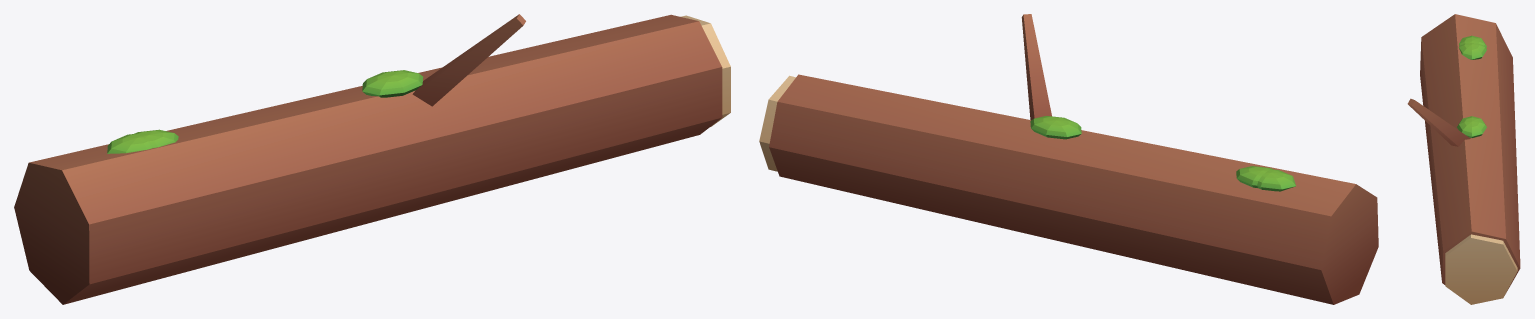
File: log_fallen.glb
The picture shows the model from 3 angles, left to right: view 1: azimuth 30°, elevation 25°; view 2: azimuth 150°, elevation 25°; view 3: azimuth 270°, elevation 25°; orthographic projection. The views are drawn at different scales.
Parts seen in each view (by area): view 1: log_fallen; view 2: log_fallen; view 3: log_fallen.
Boxes of the visible parts, x1,y1,x2,y2 form: log_fallen: (14, 14, 730, 304); log_fallen: (759, 14, 1378, 304); log_fallen: (1407, 14, 1520, 304).
Size of the model in its own units: 3.27 by 0.9759 by 0.7445.
Materials: 1 (1 with a texture image).
